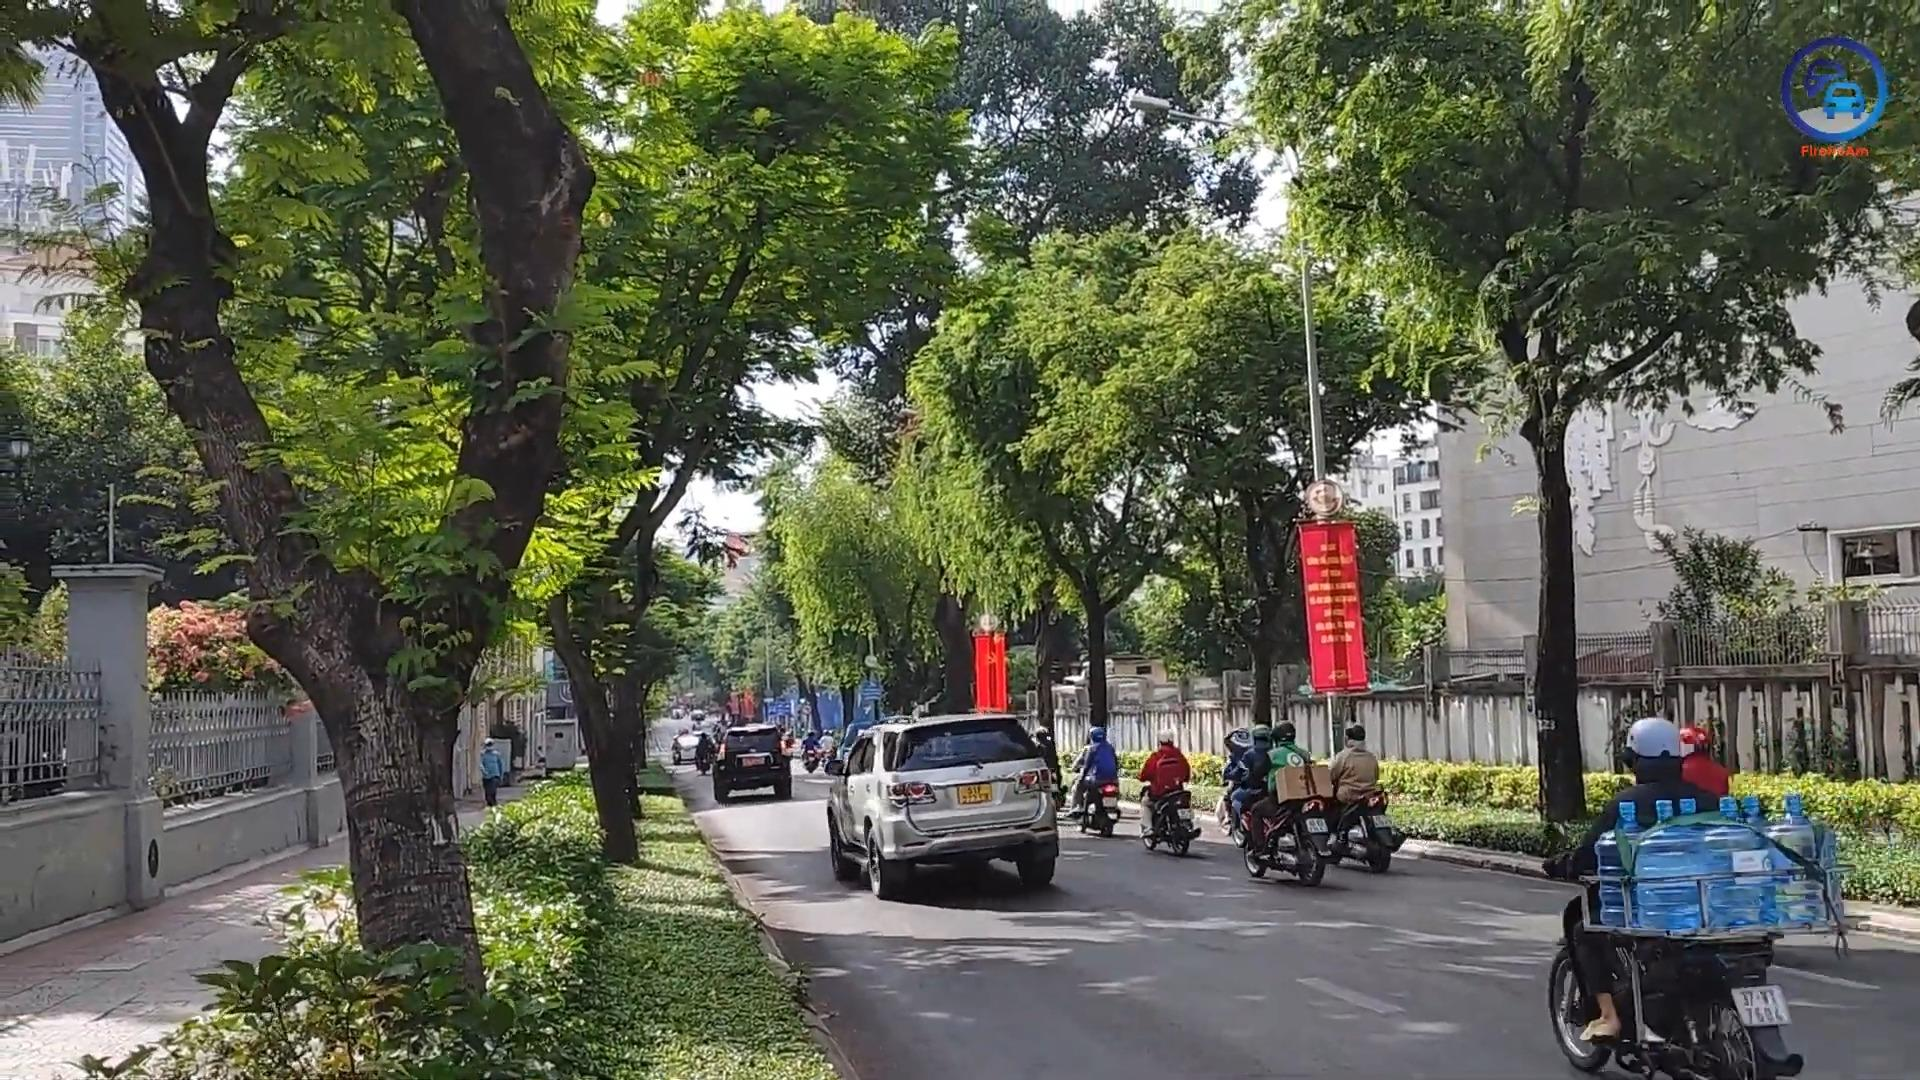bien_so: (1728, 983, 1794, 1029), (956, 781, 994, 806), (1305, 817, 1330, 834), (1371, 815, 1397, 830), (1176, 808, 1196, 821), (1101, 795, 1119, 808)
